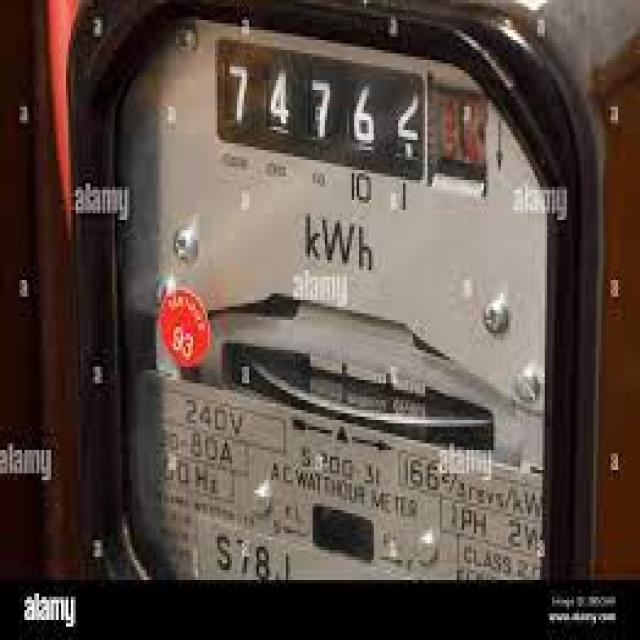2: (386, 70, 426, 144)
4: (260, 51, 300, 153)
6: (341, 68, 386, 164)
7: (300, 53, 339, 164), (220, 51, 258, 146)
analog meter: (203, 34, 511, 188)
